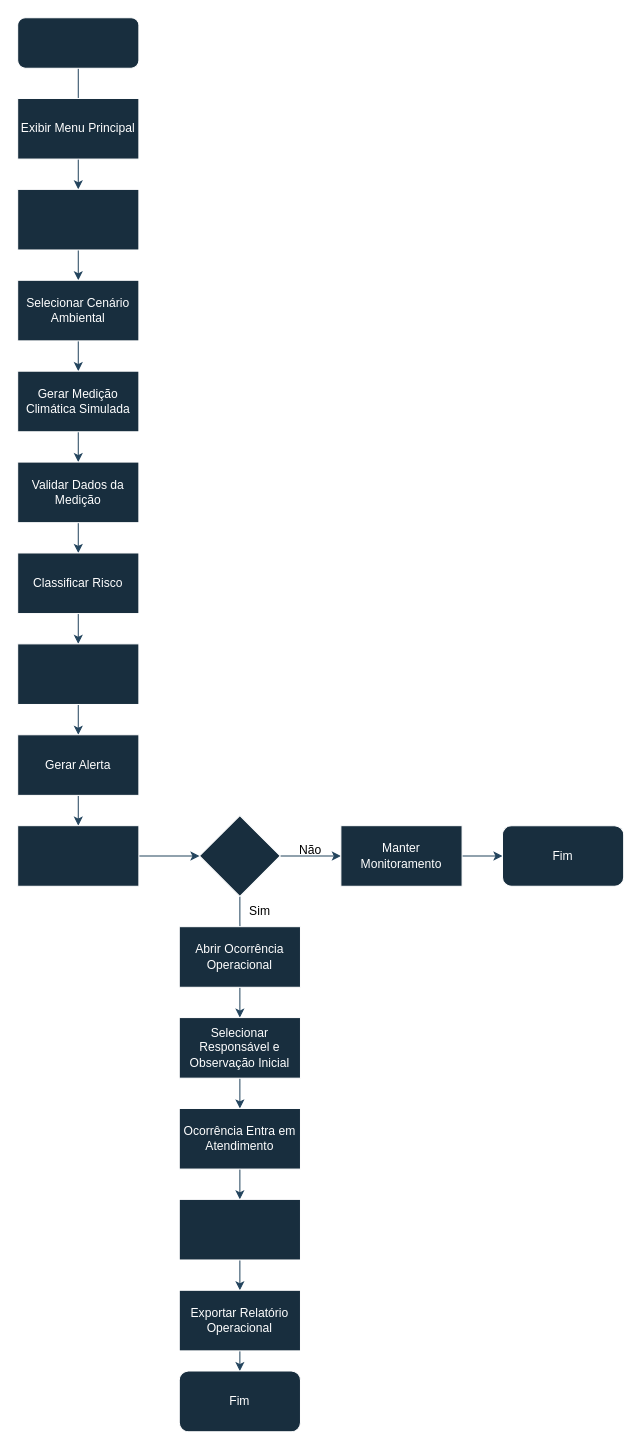
This 641x1449 diagram has some shape labels left out. The shapes that lost their labels are listed below. From the top down, each one's centre as x and y in pixels, then its label:
(78,42): Início
(78,219): Selecionar Região Monitorada
(78,673): Calcular Prioridade Operacional
(78,855): Salvar Alerta em Arquivo
(239,855): Alerta é Crítico?
(239,1229): Finalizar Ocorrência
